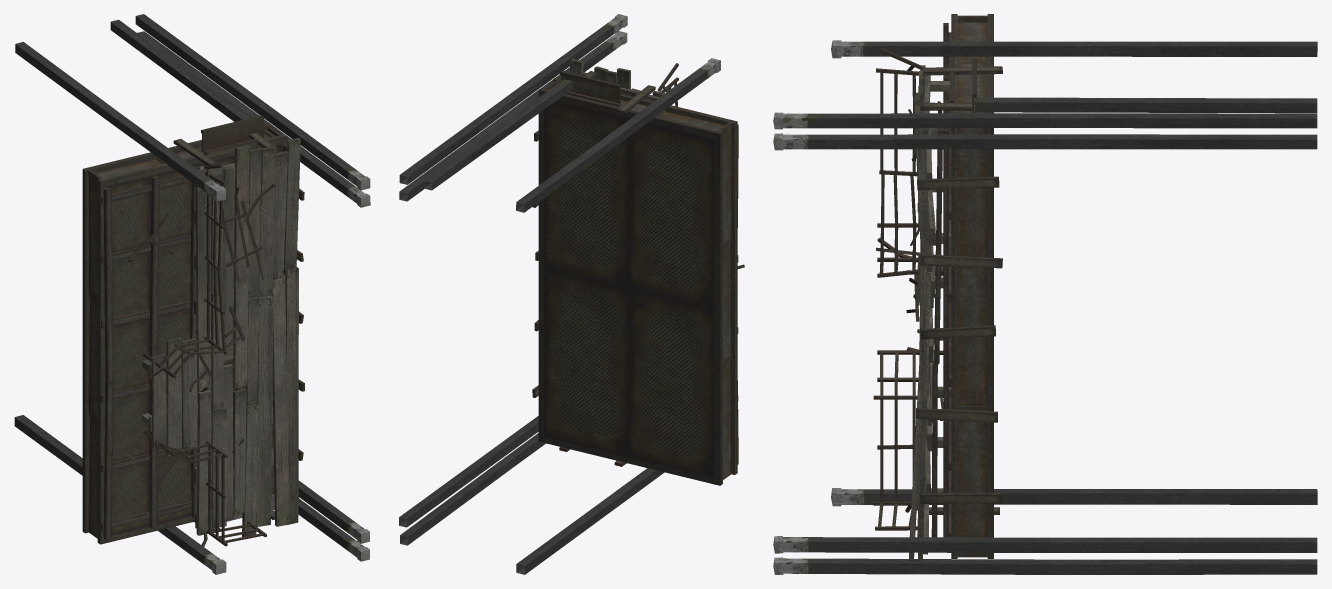
The model's file is hd_envBR_002_Pier1.glb.
3 views of the same model, side by side, from view 1: azimuth 30°, elevation 25°; view 2: azimuth 150°, elevation 25°; view 3: azimuth 270°, elevation 25° (orthographic). The views are drawn at different scales.
Parts seen in each view (by area): view 1: set_0_group_0, set_0_group_2, set_0_group_4, set_0_group_1; view 2: set_0_group_0; view 3: set_0_group_0, set_0_group_2, set_0_group_1, set_0_group_4.
Boxes of the visible parts, box(x1,y1,x2,y2) form: set_0_group_0: box(14, 14, 370, 574); set_0_group_2: box(143, 171, 226, 378); set_0_group_4: box(126, 165, 275, 391); set_0_group_1: box(143, 430, 266, 546); set_0_group_0: box(399, 14, 738, 574); set_0_group_0: box(773, 14, 1317, 574); set_0_group_2: box(876, 68, 920, 277); set_0_group_1: box(873, 350, 919, 530); set_0_group_4: box(877, 48, 943, 321).
Bounding box in the file's own units: 5.02 × 9.64 × 10.03.
Materials: 5 (5 with a texture image).
